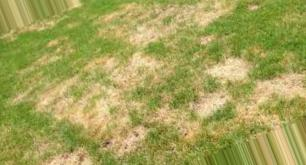patch: (68, 91, 113, 121), (266, 78, 304, 90), (223, 63, 254, 74), (98, 58, 124, 71), (238, 106, 274, 115), (88, 122, 111, 136), (122, 69, 140, 85), (120, 124, 139, 139), (42, 98, 67, 106), (189, 11, 209, 21), (213, 97, 225, 108), (197, 100, 208, 110), (136, 26, 145, 35)
